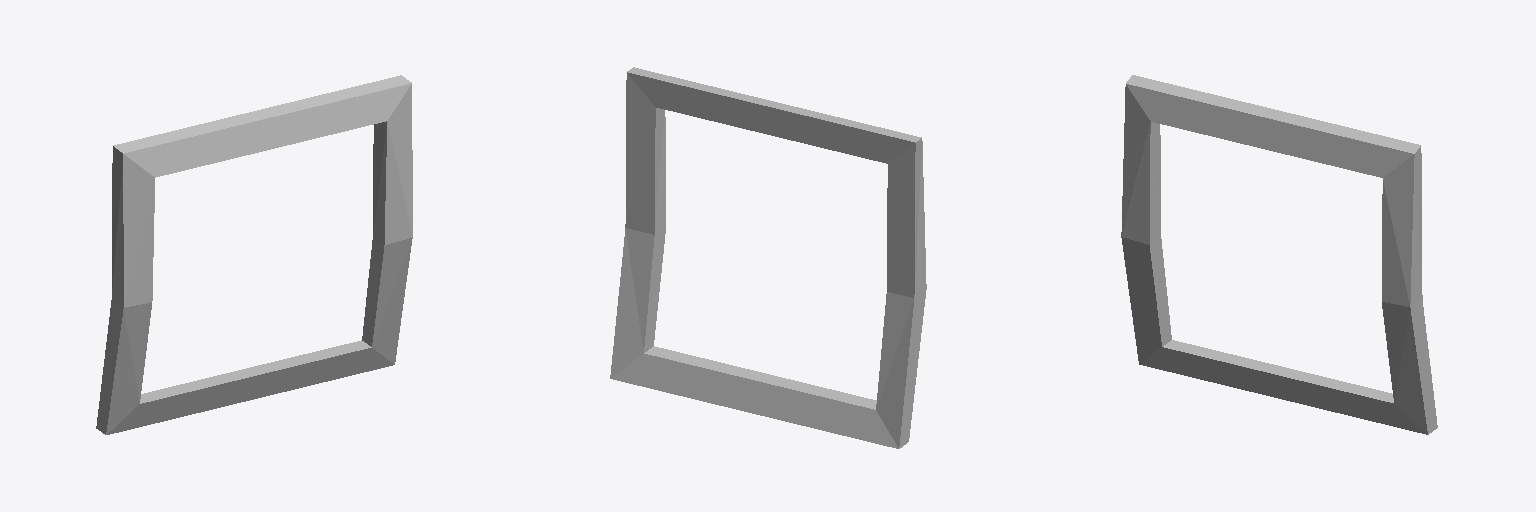
Rendered from cannonWindowTrim_metal.obj.
3 views of the same model, side by side, from view 1: azimuth 30°, elevation 25°; view 2: azimuth 150°, elevation 25°; view 3: azimuth 330°, elevation 25° (orthographic).
Size of the model in its own units: 2.26 by 2.18 by 0.3855.